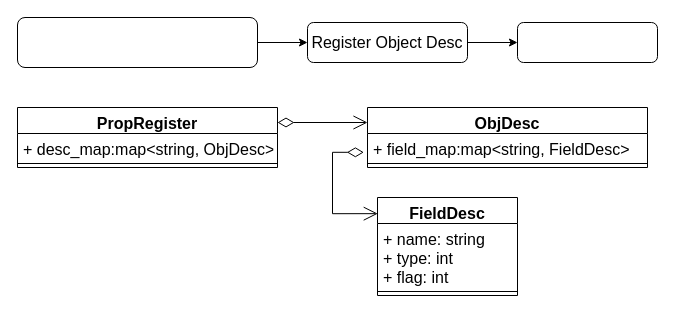
Some shapes in this 675 by 313 pixel diagram are drawn without their labels. Each missing label, with the centre of its shape:
Add Field Desc: point 587,42
class Avatar(ServerEntity): Property("realmID", P_INT): point 137,42
